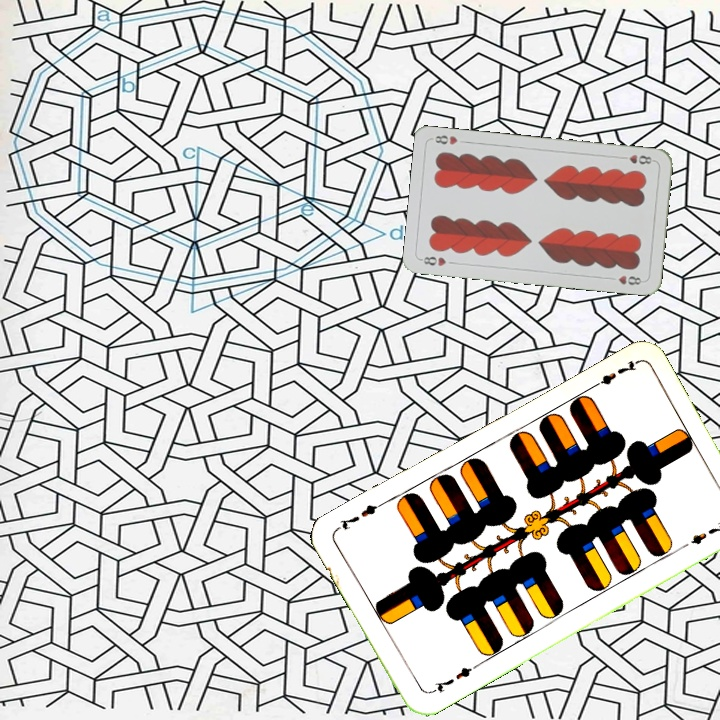E7: (425, 660, 479, 697), (585, 356, 639, 392)
H8: (616, 151, 657, 167), (417, 252, 449, 269)
